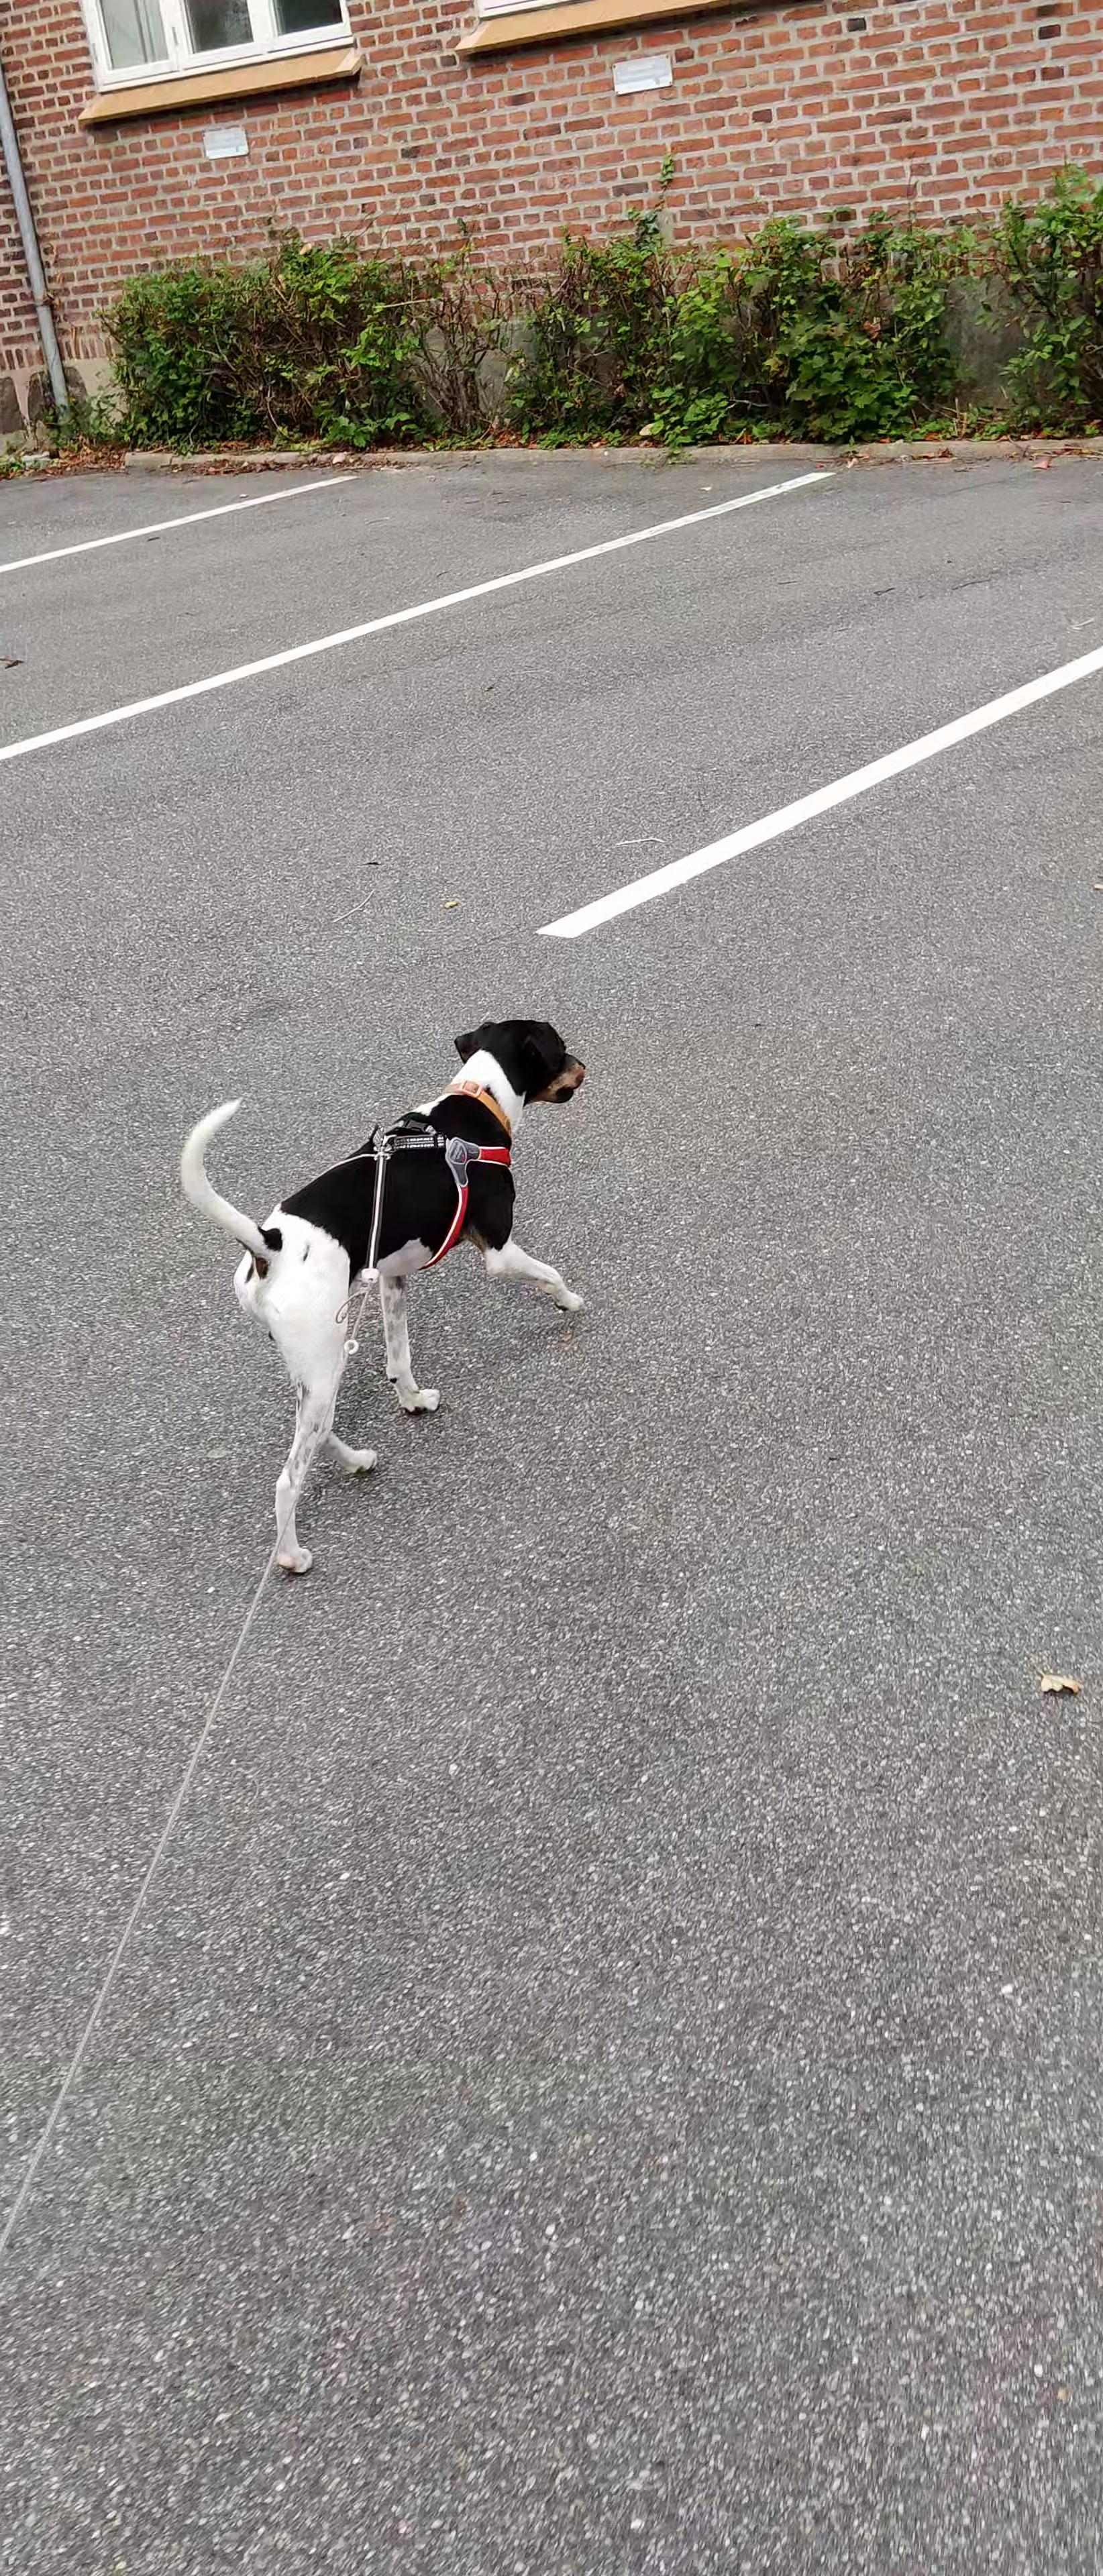Dog: (168, 1014, 600, 1585)
